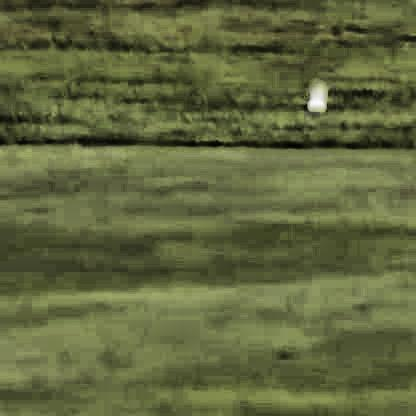golfball: (303, 81, 325, 109)
